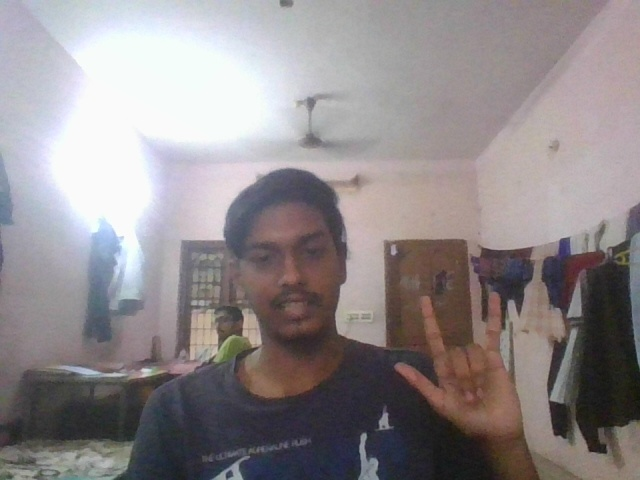iloveyou: (393, 290, 527, 448)
